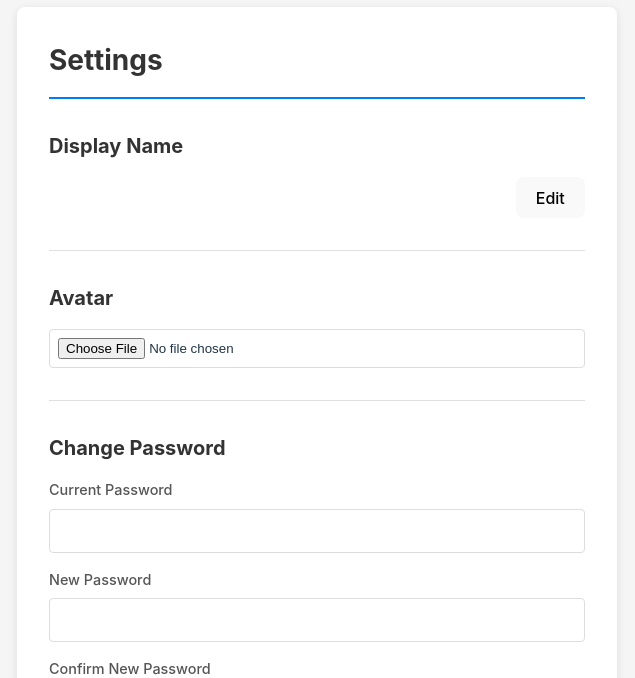
Test: UserConfigurationPage › 12.4.3: Change password form (current + new + confirm) › should validate password complexity
Type "weak" into the password field labelled "New Password".
click(317, 620); type("weak")  # box 49,598 -> 585,642
(page scrolled)
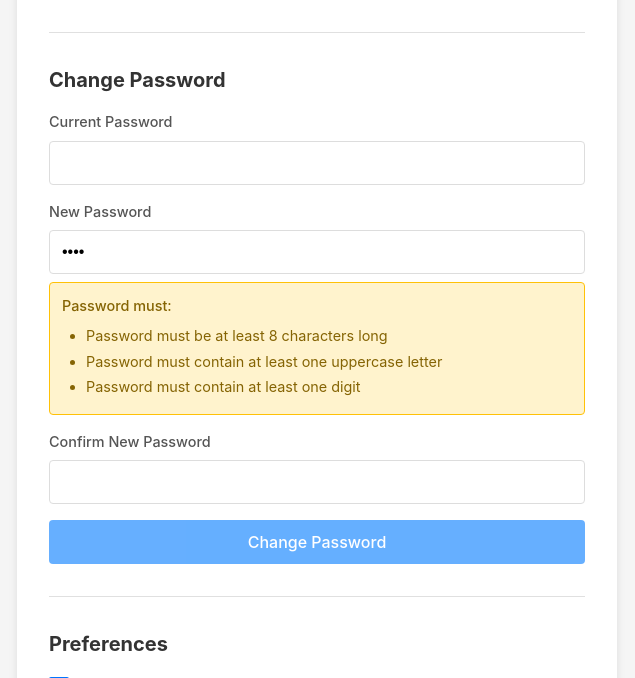
Now the list item "Password must be at least 8 characters long" is shown, box 86,327 -> 388,344
